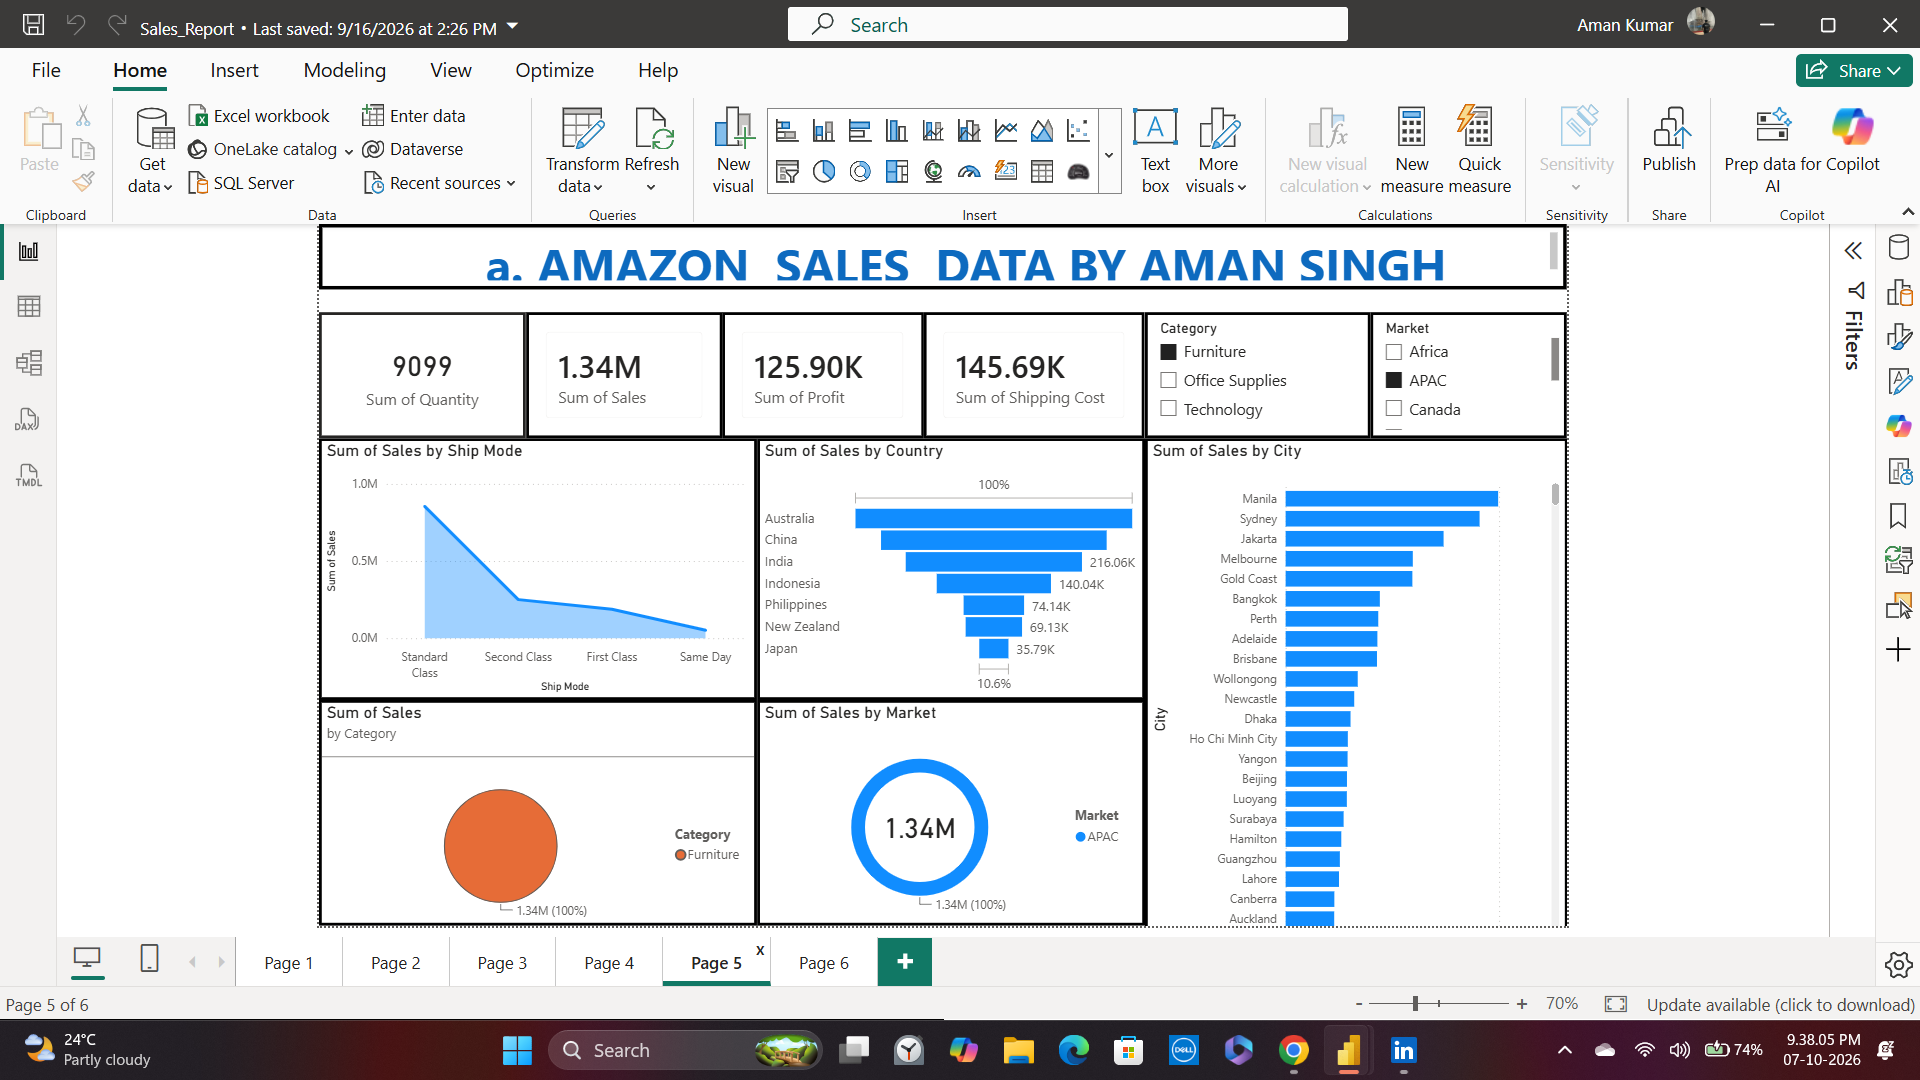

Layout of this report page (visuals, bound fields, positions):
{"tool":"powerbi","page":{"name":"Page 5","canvas":[1280,720],"ordinal":4},"visuals":[{"type":"pieChart","fields":{"Category":["Orders.Category"],"Y":["Sum(Orders.Sales)"]},"box":[0,488.1,449.1,231.6],"z":0},{"type":"donutChart","fields":{"Category":["Orders.Market"],"Y":["Sum(Orders.Sales)"]},"box":[449.1,488.1,397.9,231.6],"z":1000},{"type":"barChart","fields":{"Category":["Orders.City"],"Y":["Sum(Orders.Sales)"]},"box":[847,219.3,433.2,576.5],"z":2000},{"type":"areaChart","fields":{"Category":["Orders.Ship Mode"],"Y":["Sum(Orders.Sales)"]},"box":[0,219.3,449.1,268.8],"z":3000},{"type":"funnel","fields":{"Category":["Orders.Country"],"Y":["Sum(Orders.Sales)"]},"box":[449.1,219.3,397.9,268.8],"z":4000},{"type":"card","fields":{"Values":["Sum(Orders.Quantity)"]},"box":[0,90.2,212.2,129.1],"z":5000},{"type":"cardVisual","fields":{"Data":["Sum(Orders.Sales)"]},"box":[212.2,90.2,201.6,129.1],"z":6000},{"type":"cardVisual","fields":{"Data":["Sum(Orders.Profit)"]},"box":[413.8,90.2,206.9,129.1],"z":7000},{"type":"cardVisual","fields":{"Data":["Sum(Orders.Shipping Cost)"]},"box":[620.7,90.2,226.3,129.1],"z":8000},{"type":"slicer","fields":{"Values":["Orders.Category"]},"box":[847,90.2,231.6,129.1],"z":9000},{"type":"slicer","fields":{"Values":["Orders.Market"]},"box":[1078.7,90.2,201.6,129.1],"z":10000},{"type":"textbox","box":[0,0,1280.2,67.2],"z":11000}]}

Visuals, with their boxes on the page's 1280x720 design canvas (x1, y1, x2, y2). These are canvas units, not pixel positions in the 1920x1080 screenshot, which may show the page scaled, cropped or inside an application window:
pieChart - Orders.Category x Sum(Orders.Sales): [0, 488, 449, 720]
donutChart - Orders.Market x Sum(Orders.Sales): [449, 488, 847, 720]
barChart - Orders.City x Sum(Orders.Sales): [847, 219, 1280, 796]
areaChart - Orders.Ship Mode x Sum(Orders.Sales): [0, 219, 449, 488]
funnel - Orders.Country x Sum(Orders.Sales): [449, 219, 847, 488]
card - Sum(Orders.Quantity): [0, 90, 212, 219]
cardVisual - Sum(Orders.Sales): [212, 90, 414, 219]
cardVisual - Sum(Orders.Profit): [414, 90, 621, 219]
cardVisual - Sum(Orders.Shipping Cost): [621, 90, 847, 219]
slicer - Orders.Category: [847, 90, 1079, 219]
slicer - Orders.Market: [1079, 90, 1280, 219]
textbox: [0, 0, 1280, 67]
